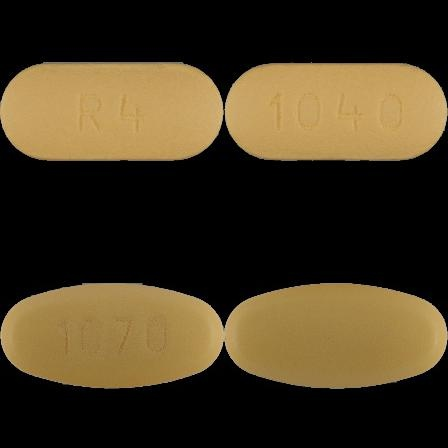13668-040: (0, 0, 224, 224)
